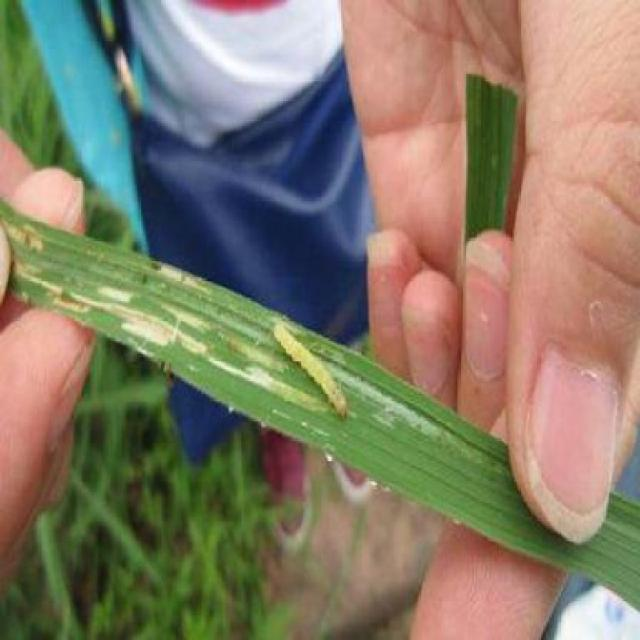leaf-folder: (270, 312, 365, 445)
